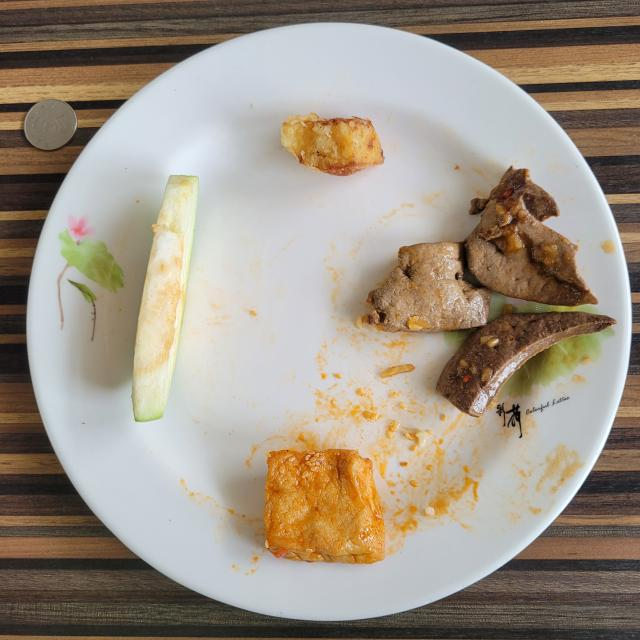coin: (24, 99, 78, 150)
creamy tofu: (264, 450, 385, 564)
fried potato: (281, 112, 384, 176)
guava -sliced-: (132, 175, 199, 421)
pig liver: (365, 168, 615, 416)
